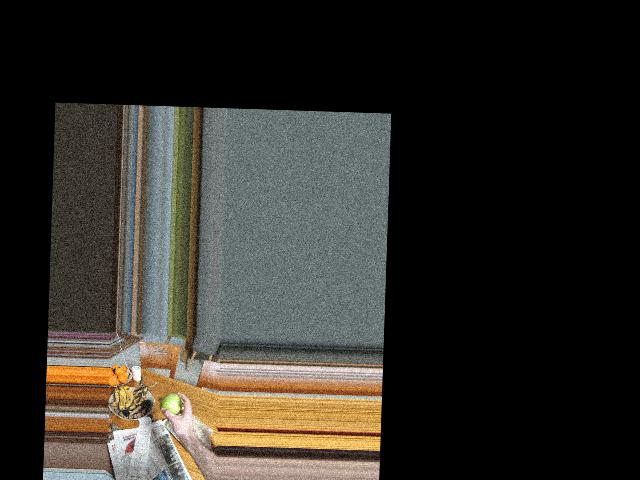apple: (163, 393, 181, 417)
